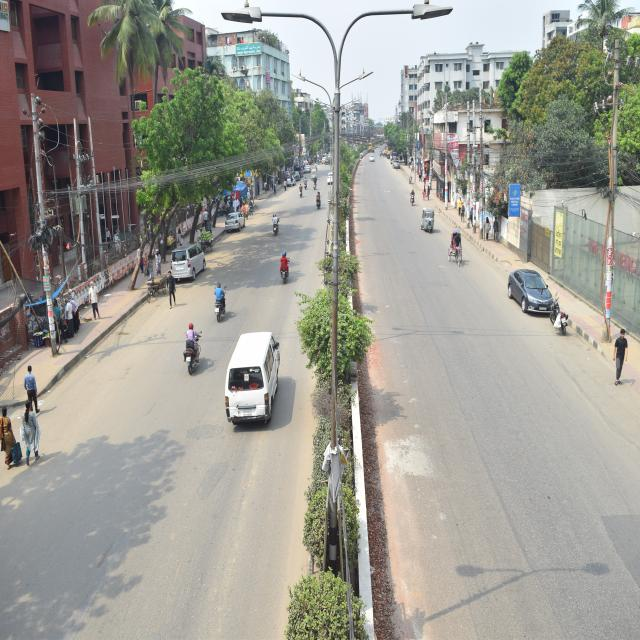car: (510, 259, 555, 329), (221, 213, 252, 239), (319, 152, 328, 170), (325, 173, 335, 184)
microbus: (225, 319, 282, 427), (168, 243, 213, 292)
motorbike: (541, 287, 573, 395), (181, 325, 204, 384), (269, 241, 293, 269), (212, 276, 225, 317), (273, 217, 279, 236), (316, 194, 322, 212), (299, 183, 305, 200), (302, 176, 309, 189), (287, 267, 291, 278)
